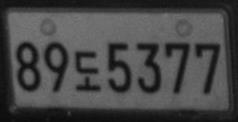3: (135, 41, 161, 93)
5: (106, 42, 132, 94)
7: (194, 42, 221, 94), (164, 42, 190, 94)
8: (15, 40, 41, 91)
9: (43, 41, 68, 92)
도: (74, 50, 101, 92)
